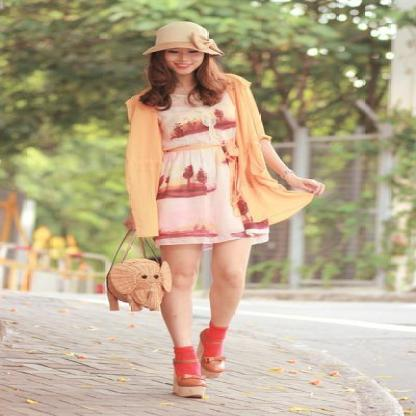bag: (96, 258, 171, 311)
dress: (146, 95, 270, 250)
hat: (144, 21, 222, 54)
jacket: (125, 75, 312, 237)
shoe: (183, 358, 222, 386)
